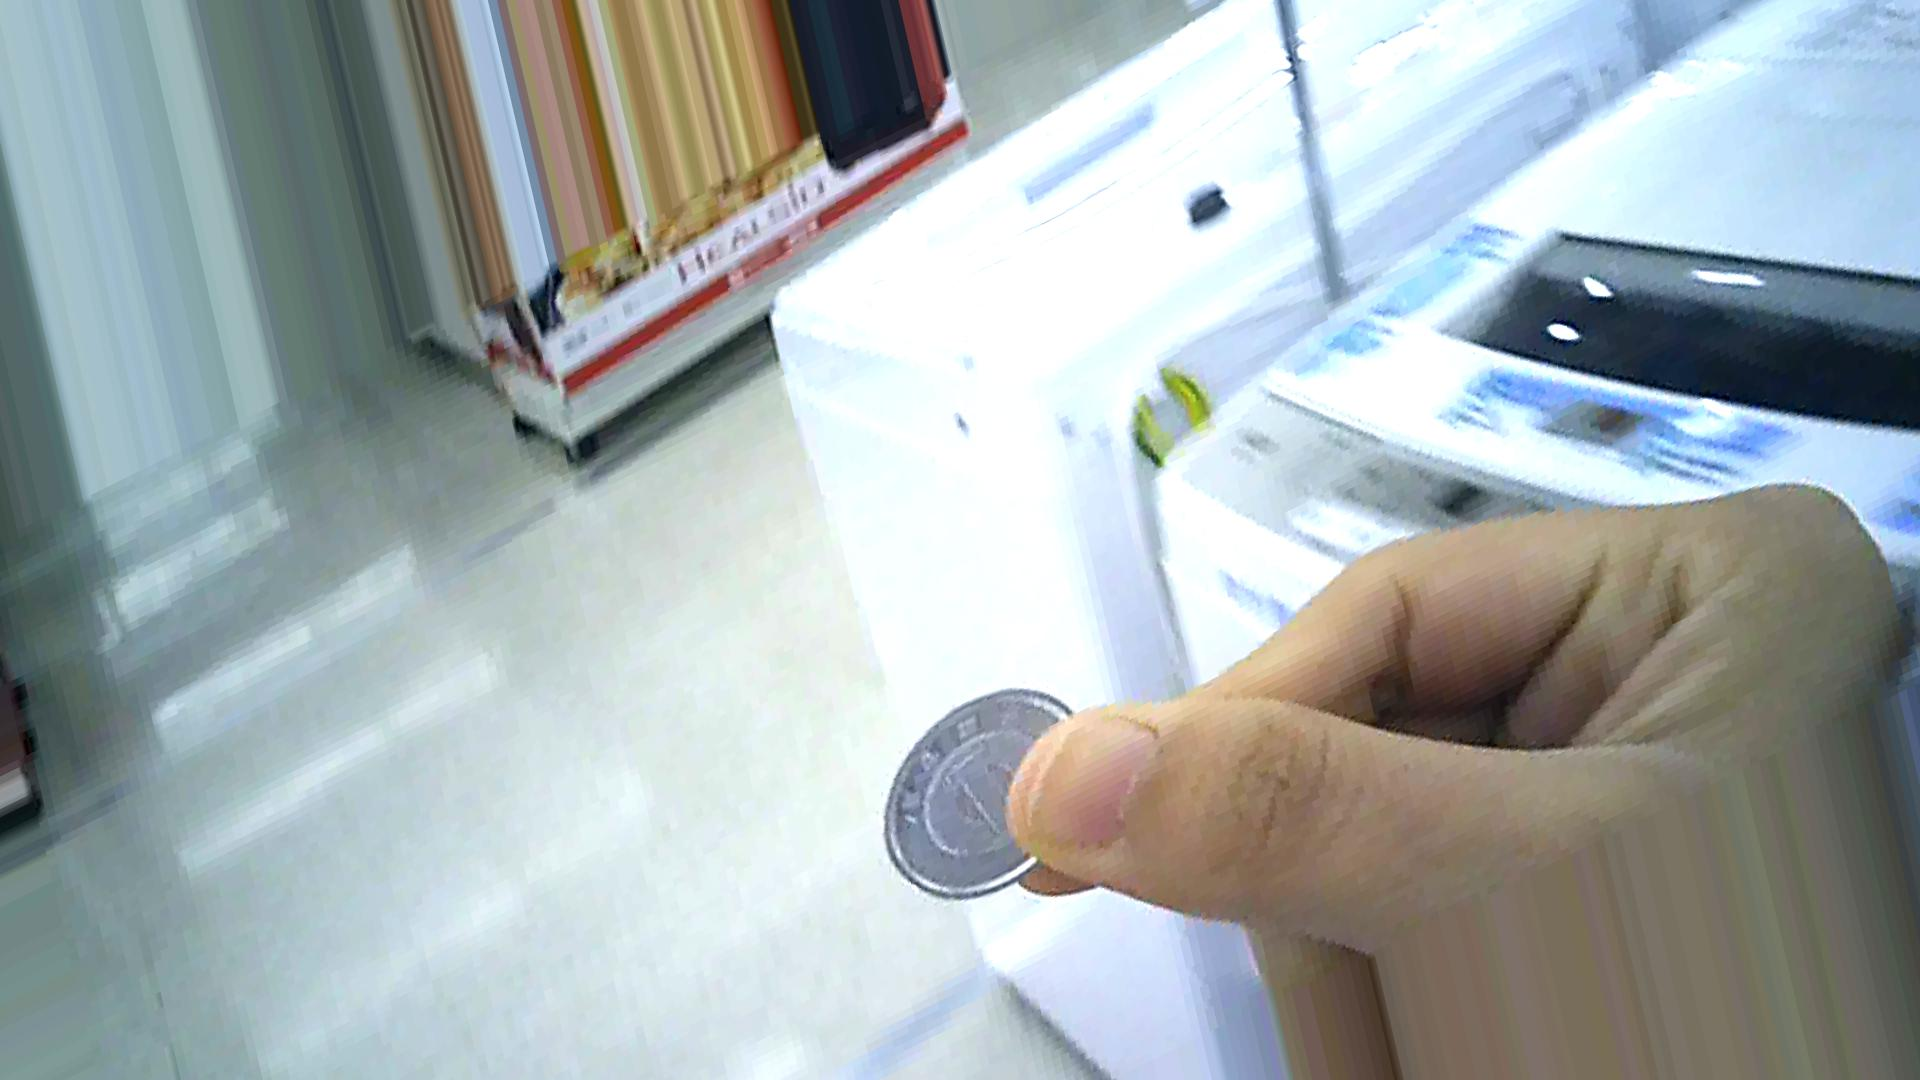1 Yen: (876, 684, 1106, 938)
